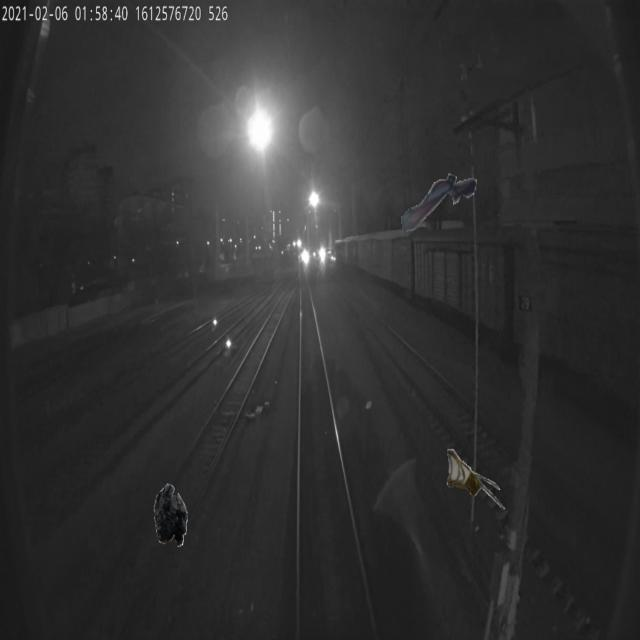floating object: (401, 169, 478, 233), (447, 449, 507, 513)
plastic bag: (154, 483, 188, 547)
